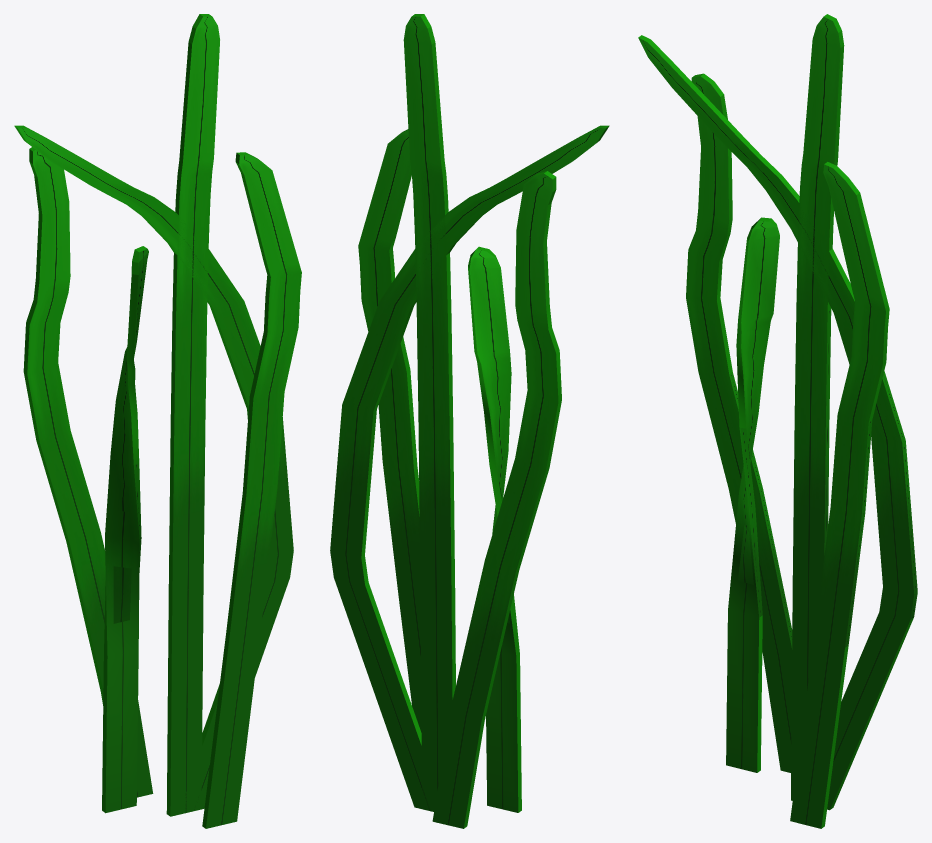
The model's file is Seaweed.obj.
The picture shows the model from 3 angles, left to right: view 1: azimuth 30°, elevation 25°; view 2: azimuth 150°, elevation 25°; view 3: azimuth 330°, elevation 25°; orthographic projection.
Parts seen in each view (by area): view 1: Line001, Line005, Line002, Line003, Line004; view 2: Line001, Line002, Line004, Line005, Line003; view 3: Line005, Line001, Line004, Line002, Line003.
Boxes of the visible parts, x1=… form: Line001: x1=166, y1=14, x2=219, y2=816; Line005: x1=202, y1=152, x2=301, y2=828; Line002: x1=23, y1=147, x2=153, y2=797; Line003: x1=102, y1=246, x2=148, y2=813; Line004: x1=14, y1=125, x2=293, y2=814; Line001: x1=403, y1=14, x2=455, y2=811; Line002: x1=432, y1=171, x2=561, y2=828; Line004: x1=330, y1=125, x2=609, y2=811; Line005: x1=358, y1=129, x2=421, y2=732; Line003: x1=468, y1=246, x2=521, y2=812; Line005: x1=790, y1=162, x2=889, y2=828; Line001: x1=791, y1=14, x2=844, y2=800; Line004: x1=638, y1=35, x2=917, y2=810; Line002: x1=686, y1=73, x2=792, y2=772; Line003: x1=726, y1=217, x2=779, y2=772.
Size of the model in its own units: 53.08 by 146 by 13.59.
